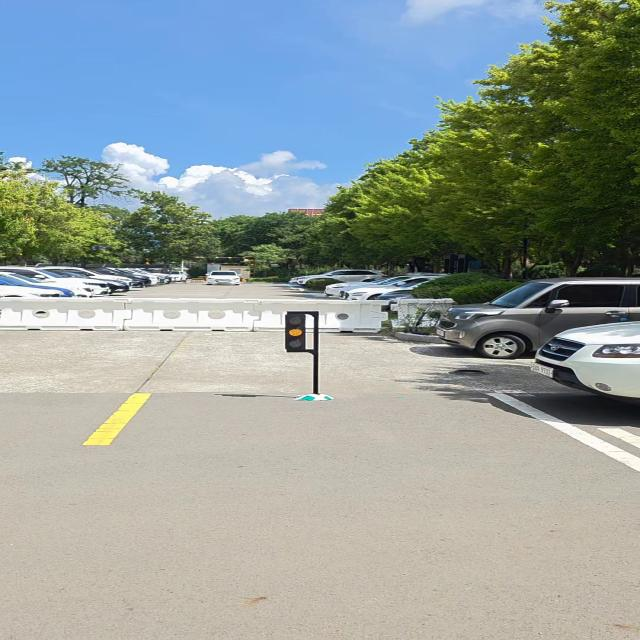yellow: (285, 313, 306, 352)
